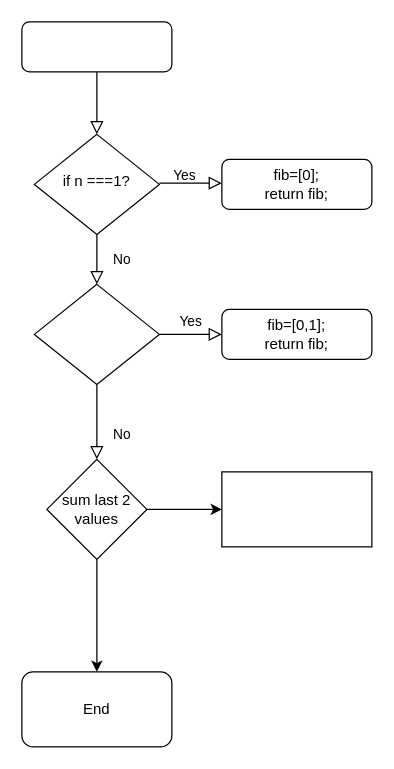
The diagram is 394 pixels wide and 769 high, and some of its shapes have lost their labels. The shapes that lost their labels are listed below. From the top down, each one's centre as x and y in pixels, then its label:
At point (96, 46): "Start".
At point (96, 333): "if n ===2 ?".
At point (296, 509): "fib[i]=fib[i-1]+fib[i-2]; return fib;".
